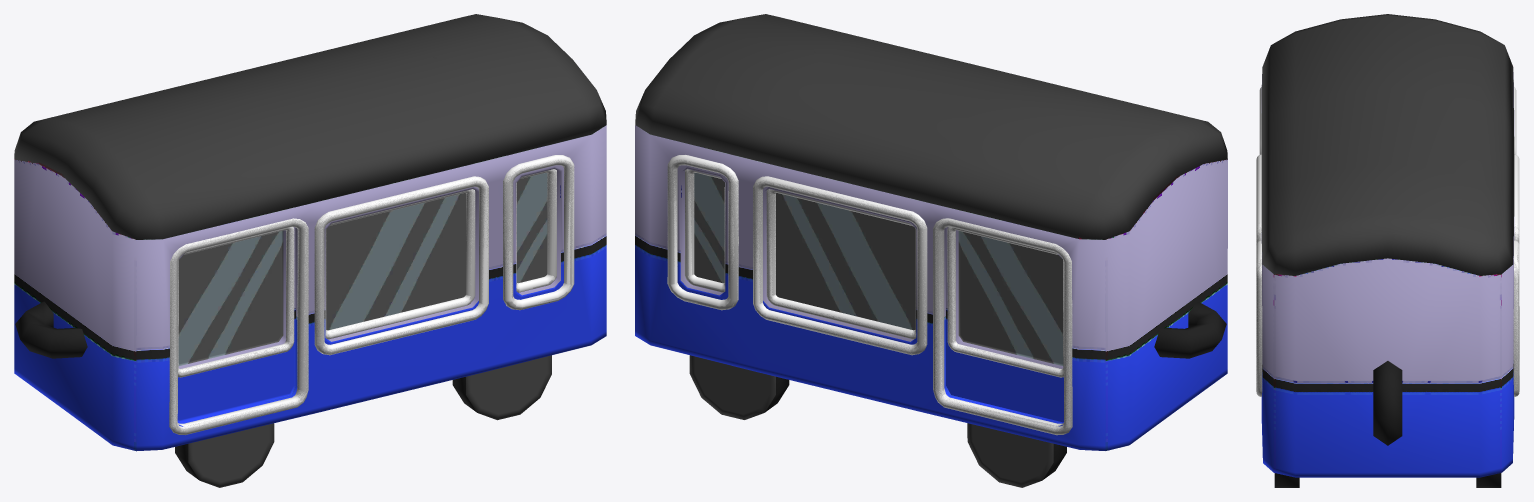
The model's file is SM_Wagon2.fbx.
3 views of the same model, side by side, from view 1: azimuth 30°, elevation 25°; view 2: azimuth 150°, elevation 25°; view 3: azimuth 270°, elevation 25° (orthographic). The views are drawn at different scales.
Parts seen in each view (by area): view 1: Car, Roof, WindowFrames, WindowFrames_Caster; view 2: Car, Roof, WindowFrames, WindowFrames_Caster; view 3: Roof, Car, WindowFrames_Caster, WindowFrames.
Part boxes in pixels (left/top/right/bottom): Car: left=14, top=125, right=606, bottom=487; Roof: left=14, top=14, right=606, bottom=239; WindowFrames: left=169, top=159, right=574, bottom=434; WindowFrames_Caster: left=169, top=155, right=574, bottom=432; Car: left=635, top=125, right=1227, bottom=487; Roof: left=635, top=14, right=1227, bottom=239; WindowFrames: left=667, top=159, right=1072, bottom=435; WindowFrames_Caster: left=667, top=155, right=1072, bottom=431; Roof: left=1261, top=14, right=1514, bottom=275; Car: left=1261, top=72, right=1514, bottom=487; WindowFrames_Caster: left=1256, top=87, right=1519, bottom=396; WindowFrames: left=1256, top=223, right=1519, bottom=396.
Size of the model in its own units: 99.74 by 53.16 by 41.61.
